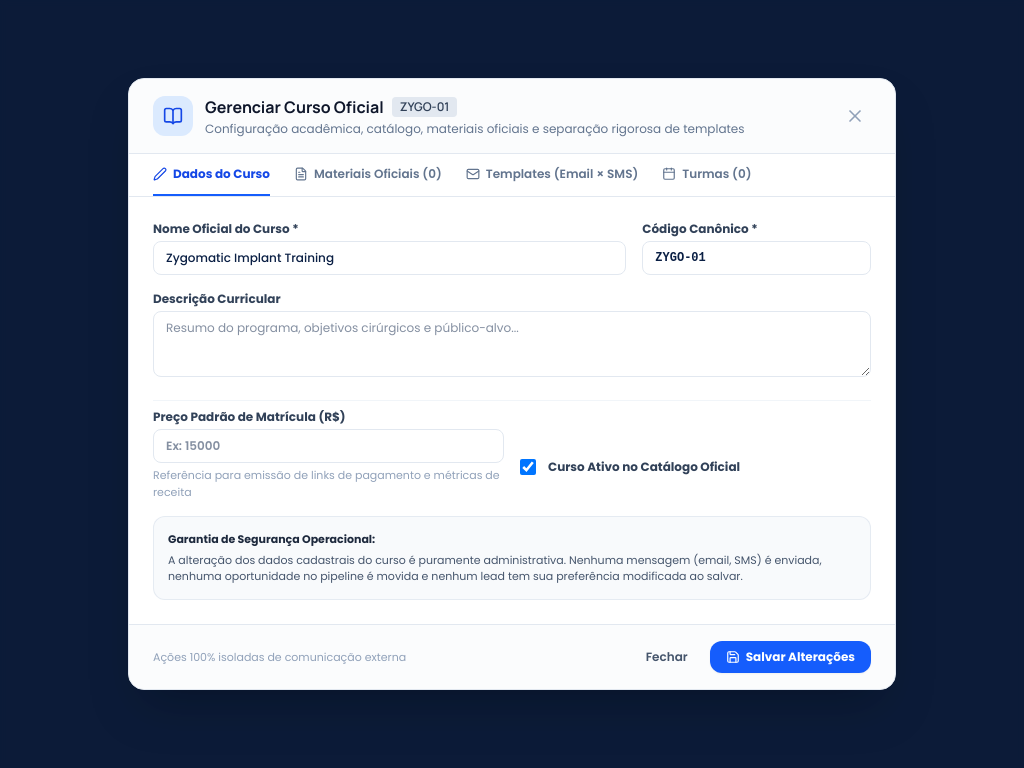
Test: COHORTS / TURMAS + PIPELINE LAST EMAIL STATUS (Items A to Y) › Course Cohort Management (Items A - G) › B. allows editing cohort details without page reload
Click the button "Turmas (0)" at [707, 175], box [662,154,752,196]
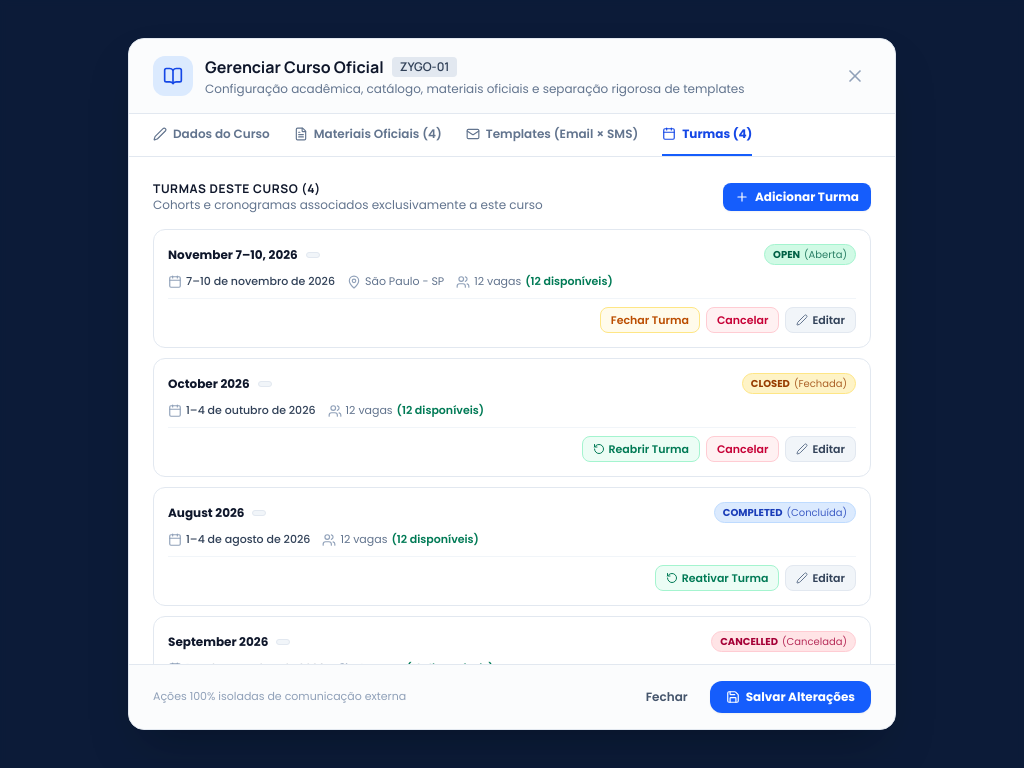
Expected: the text "November 7–10, 2026" is shown, [168,247,298,263]
Expected: the button "Editar" below "OPEN" is shown
Click the button "Editar" below "OPEN" at [821, 320], box [786,307,856,333]
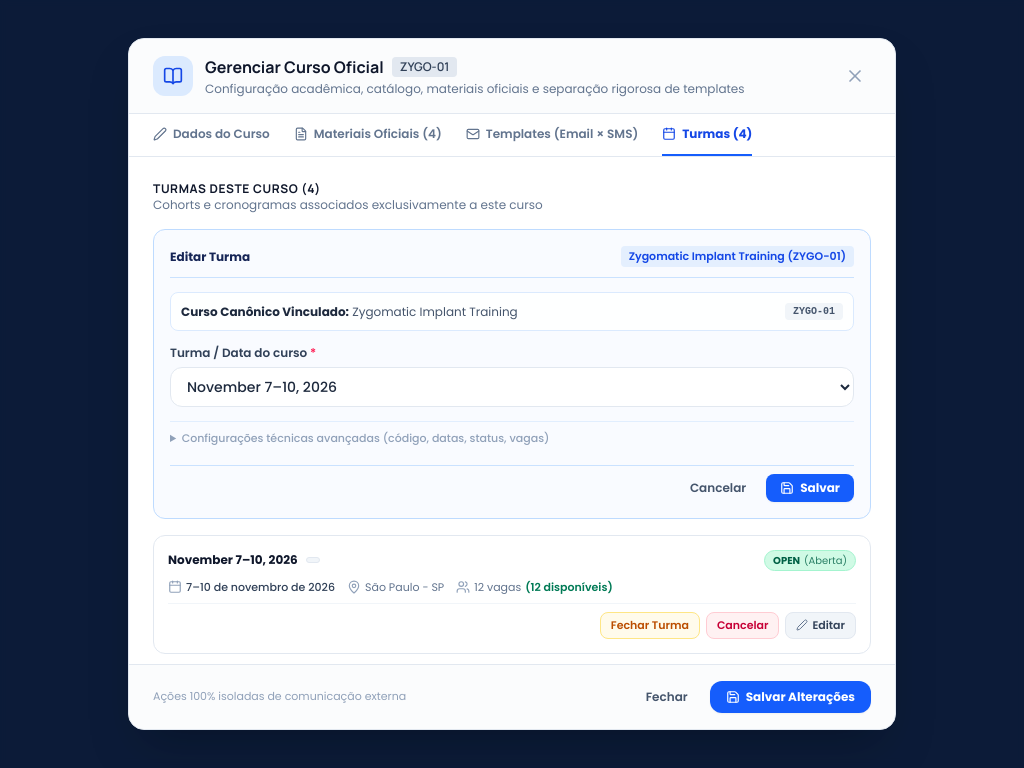
Expected: the text "Editar Turma" is shown, [170,249,250,265]
